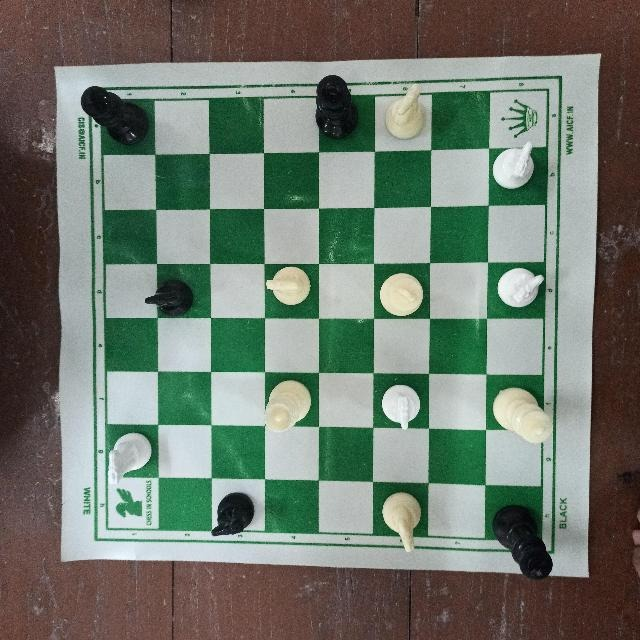black-king: (489, 501, 557, 578), (79, 82, 151, 147), (305, 72, 360, 140)
black-knight: (142, 272, 200, 324), (203, 486, 257, 536)
white-king: (492, 378, 555, 448), (374, 277, 430, 318)
white-knight: (100, 429, 158, 495), (103, 428, 159, 494), (380, 79, 426, 146), (262, 264, 318, 317), (492, 137, 539, 197), (380, 492, 426, 553), (493, 261, 545, 308), (377, 385, 425, 429)
white-queen: (259, 373, 313, 441), (260, 375, 314, 439), (262, 263, 318, 309)
